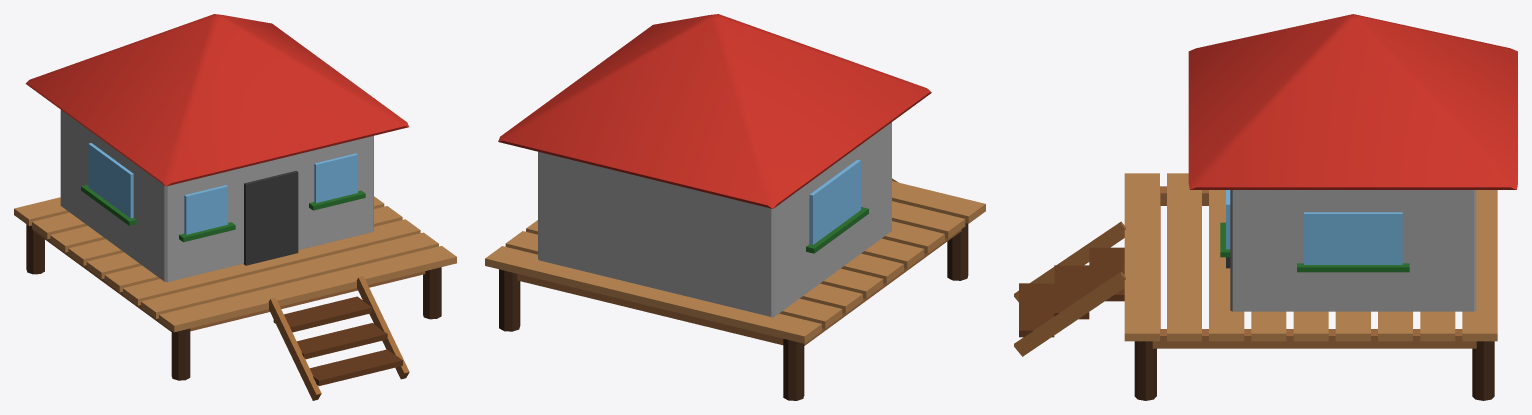
Rendered from Bungalowlvl1.fbx.
3 views of the same model, side by side, from view 1: azimuth 30°, elevation 25°; view 2: azimuth 150°, elevation 25°; view 3: azimuth 270°, elevation 25° (orthographic). The views are drawn at different scales.
Parts seen in each view (by area): view 1: Cube; view 2: Cube; view 3: Cube.
Part boxes in pixels (<box>): Cube: <box>14,14,456,400</box>; Cube: <box>485,14,985,400</box>; Cube: <box>1014,14,1517,400</box>.
Size of the model in its own units: 2.7 by 2.46 by 3.58.
1 material, 1 textured.
